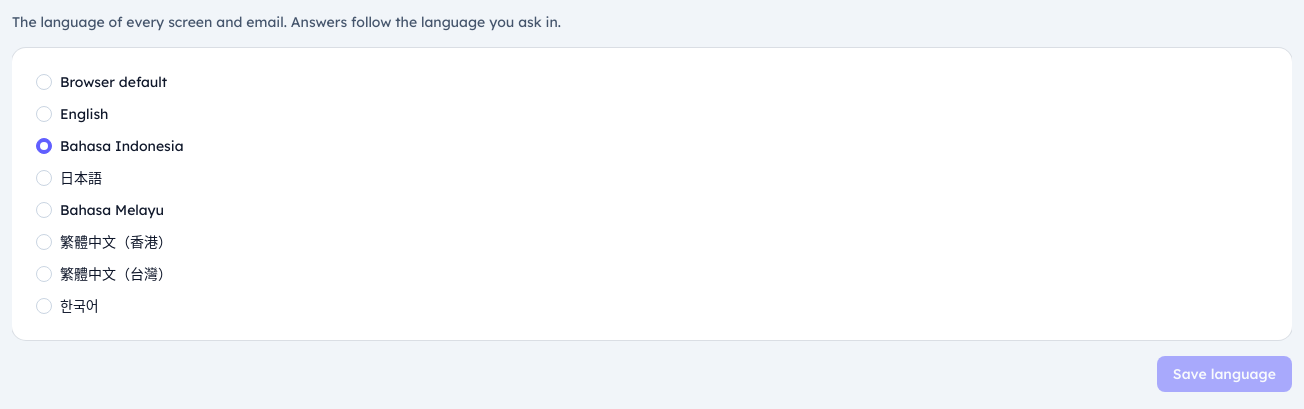
it: LanguageSection › keeps Save disabled until loaded and while nothing changed
expect the button "Save language" is disabled: met, box [1157, 356, 1292, 392]
Step 1. Click the radio button named "English" next to "English" → [44, 114], box [36, 106, 52, 122]
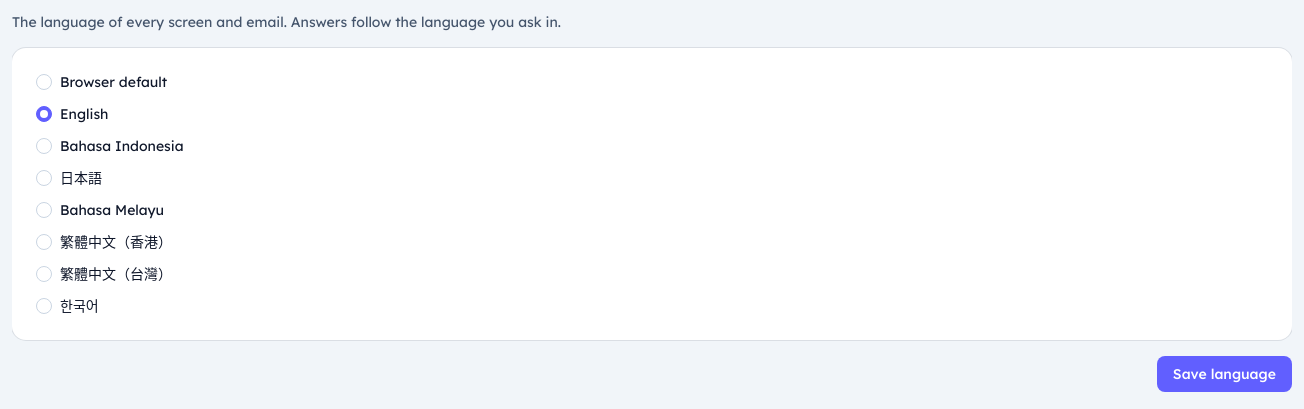
expect the button "Save language" is enabled: met, box [1157, 356, 1292, 392]
